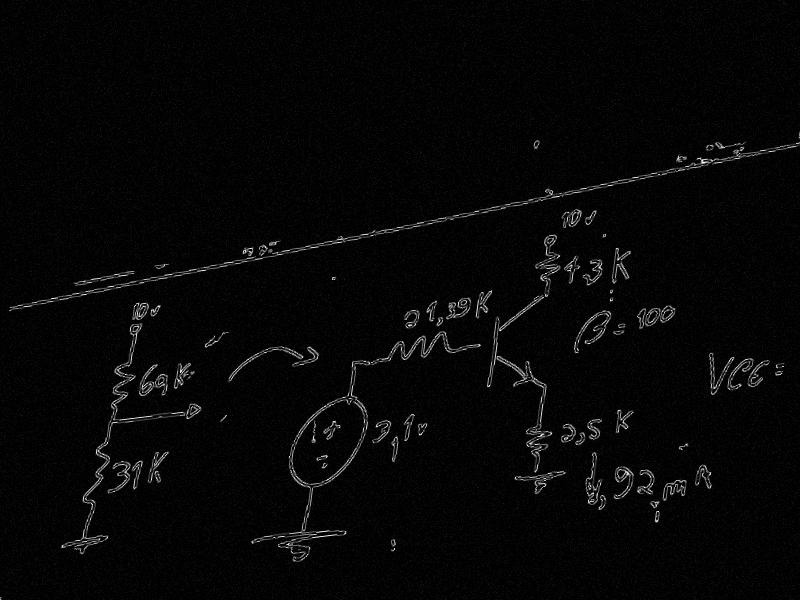-: (314, 452, 330, 463), (772, 369, 784, 378), (612, 328, 625, 336), (773, 362, 784, 370), (616, 322, 628, 329)
0: (658, 303, 678, 325), (643, 306, 663, 327), (567, 207, 584, 229), (135, 301, 151, 322)
1: (128, 459, 144, 492), (399, 412, 416, 443), (424, 300, 438, 324), (633, 306, 647, 330), (130, 300, 140, 320), (559, 211, 570, 229)
2: (634, 466, 659, 498), (401, 307, 421, 331), (558, 421, 578, 444)
3: (105, 458, 134, 495), (580, 257, 606, 288), (369, 417, 393, 447), (444, 301, 457, 321)
4: (561, 254, 582, 286)
5: (584, 417, 603, 441)
6: (608, 462, 637, 501), (136, 363, 158, 398)
9: (152, 372, 171, 397), (453, 295, 473, 318)
A: (692, 462, 716, 493)
V: (702, 349, 736, 398), (582, 208, 598, 228), (147, 303, 163, 319), (415, 422, 429, 438)
k: (609, 244, 634, 286), (146, 449, 170, 487), (172, 360, 193, 392), (613, 405, 636, 434), (473, 289, 494, 320)
m: (660, 477, 689, 503)
